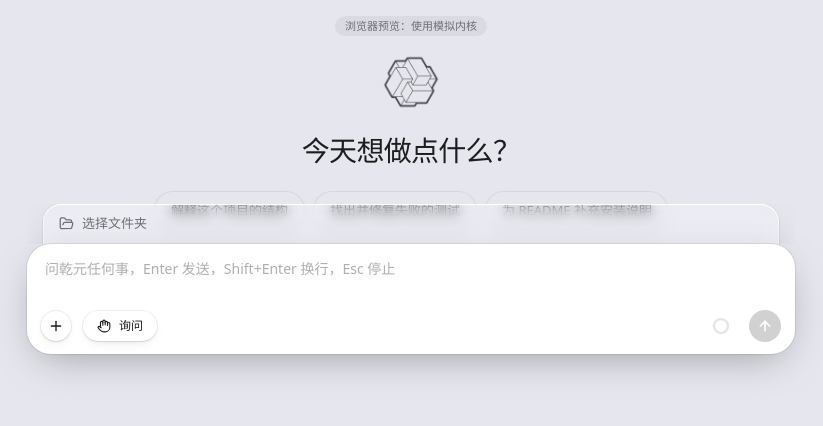
Test: 对话区（mock 事件流） › Core 拒绝 prompt 时显示错误并保留草稿
Type "你好" into the text box named "输入消息" at point(411, 280), box [41, 258, 781, 302]
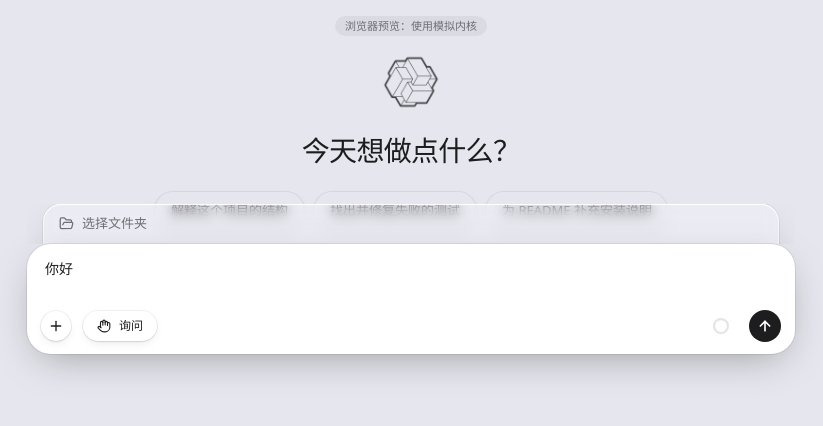
Press Enter in the text box named "输入消息", box [41, 258, 781, 302]
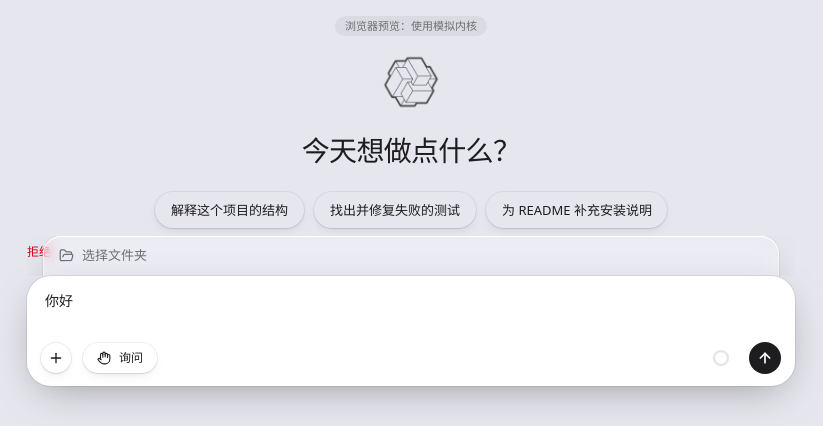
Expected: the message "拒绝" is shown, [27, 243, 51, 260]
